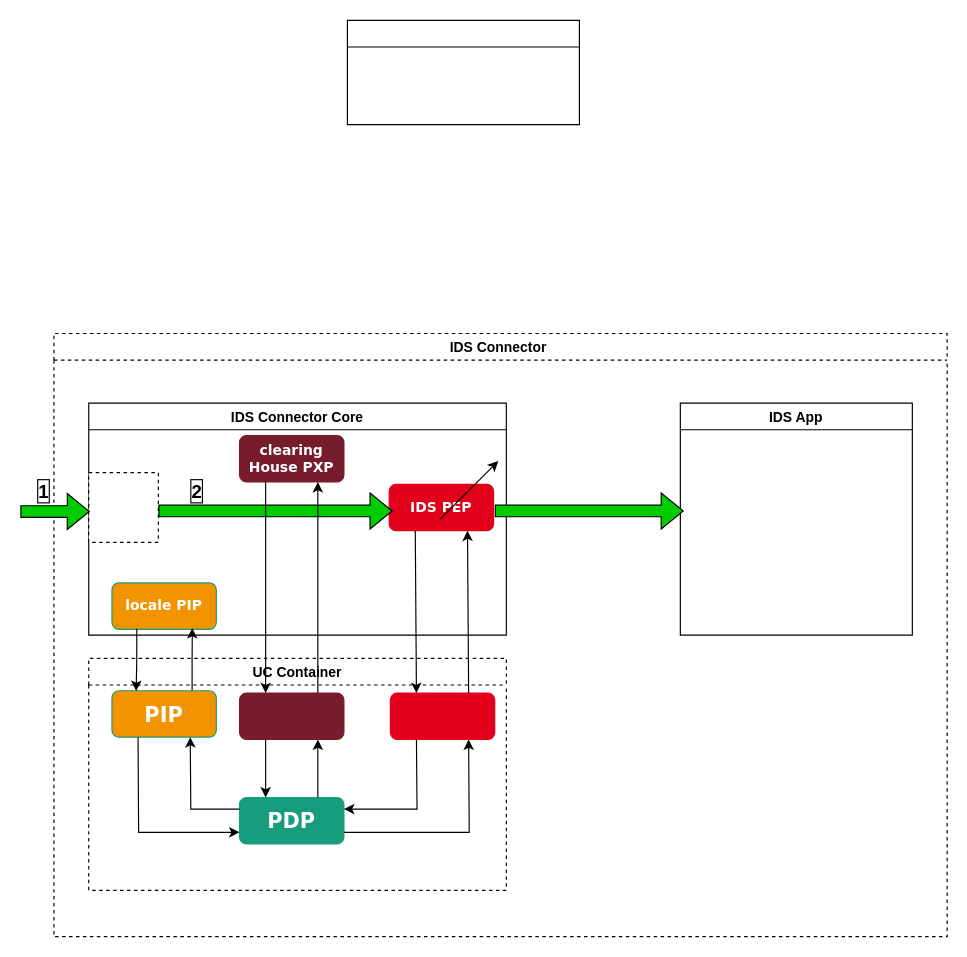
Image size: 967x957. Some labels were removed from this diagram. The shapes that lost their labels are listed below. From the top down, each one's centre as x and y in pixels, then its label:
pixel 462 72: Clearing House
pixel 123 507: Routing Logic
pixel 291 716: PXP
pixel 442 716: PEP
